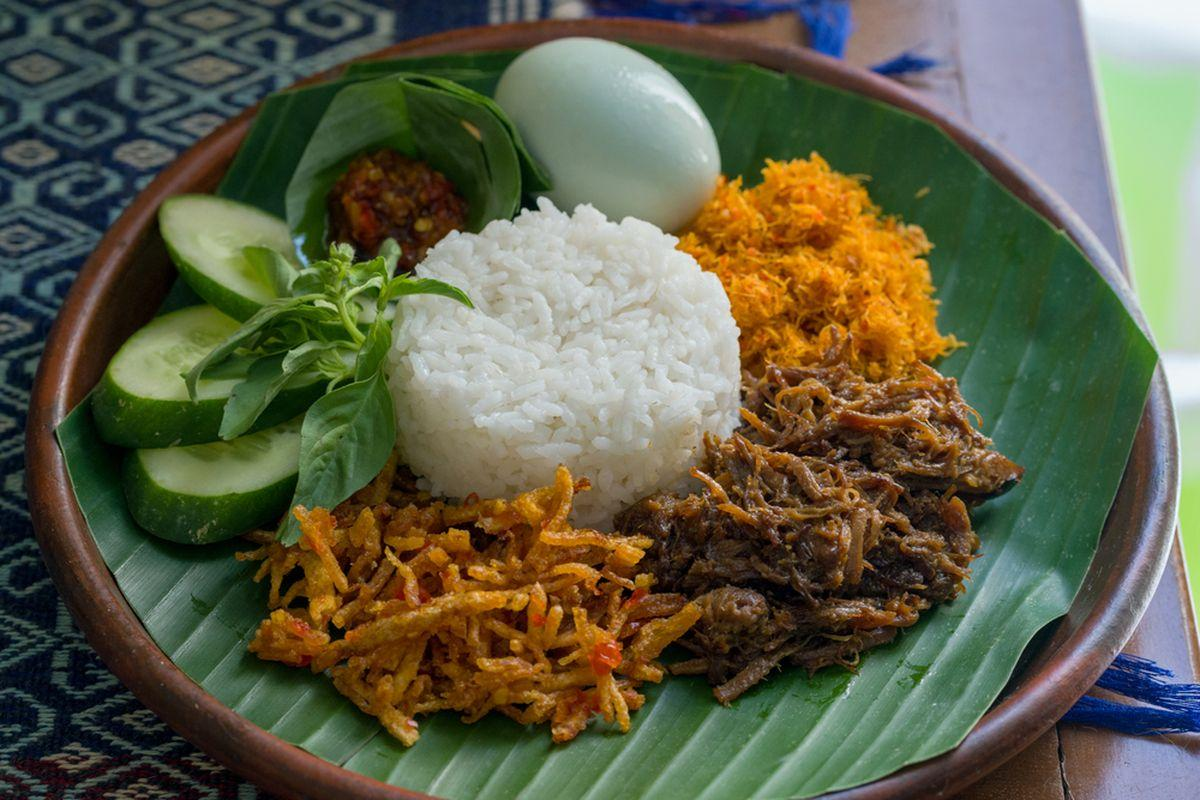buah_sayur_lainnya: (123, 335, 341, 496)
buah_sayur_vitA: (347, 156, 444, 233)
daging: (744, 401, 947, 610), (736, 192, 866, 333)
makanan_berpati: (481, 243, 686, 448), (307, 518, 570, 672)
telur: (539, 71, 666, 184)
